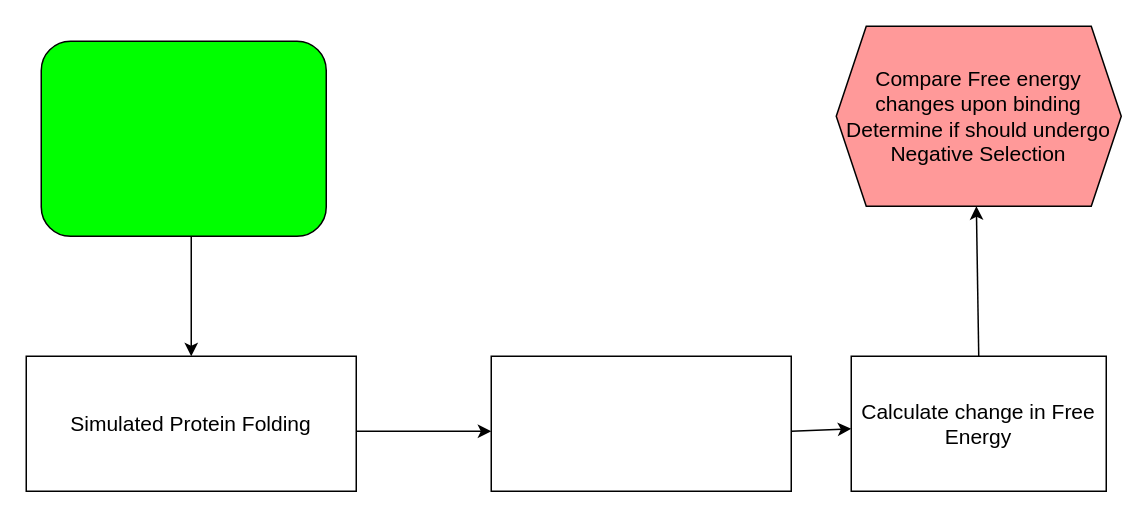
Image size: 1148x518. Some labels were removed from this diagram. Here are the shapes that lost their labels. From the top down, the centre of each, then its label:
pixel 183 138: Fasta File: MHC Sequence Antigen Sequence Binding Region Seq
pixel 640 423: Clean HP Lattice
